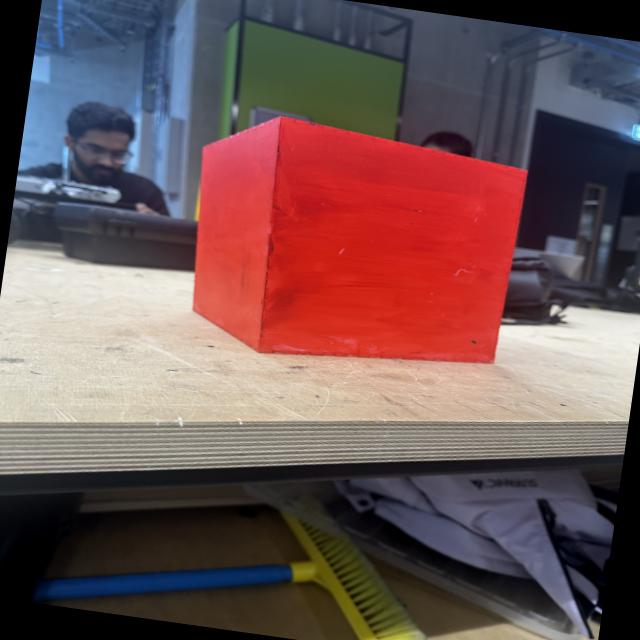red_bin: (175, 104, 532, 386)
